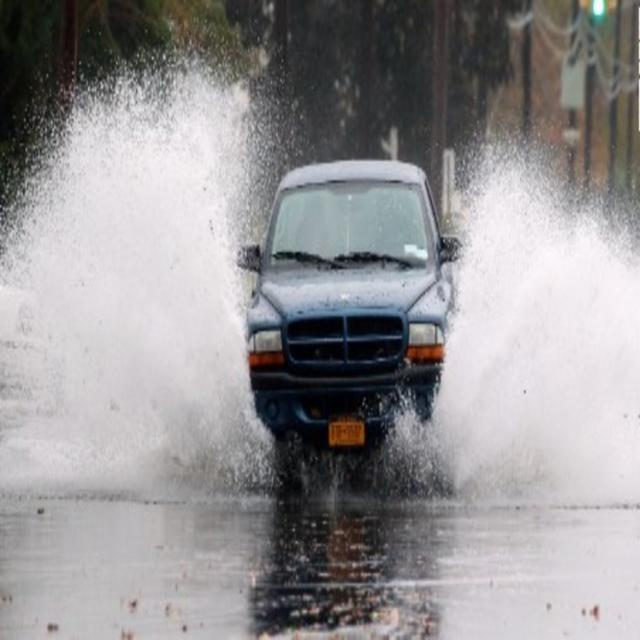car: (232, 162, 462, 457)
